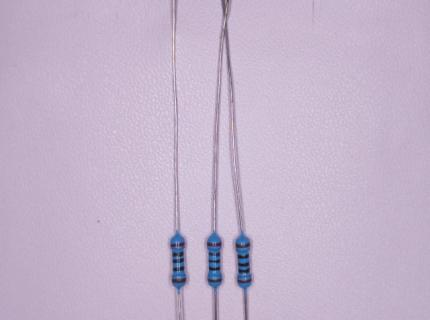Black band: (237, 262, 250, 268), (173, 266, 184, 272), (173, 257, 184, 263), (208, 252, 220, 257), (208, 259, 220, 264), (208, 266, 220, 271), (238, 269, 250, 274), (237, 255, 249, 260), (172, 252, 184, 257)
Brown band: (172, 278, 187, 283), (207, 278, 222, 283), (236, 243, 251, 248)
Red band: (171, 242, 186, 248), (237, 279, 252, 284), (207, 243, 222, 247)
